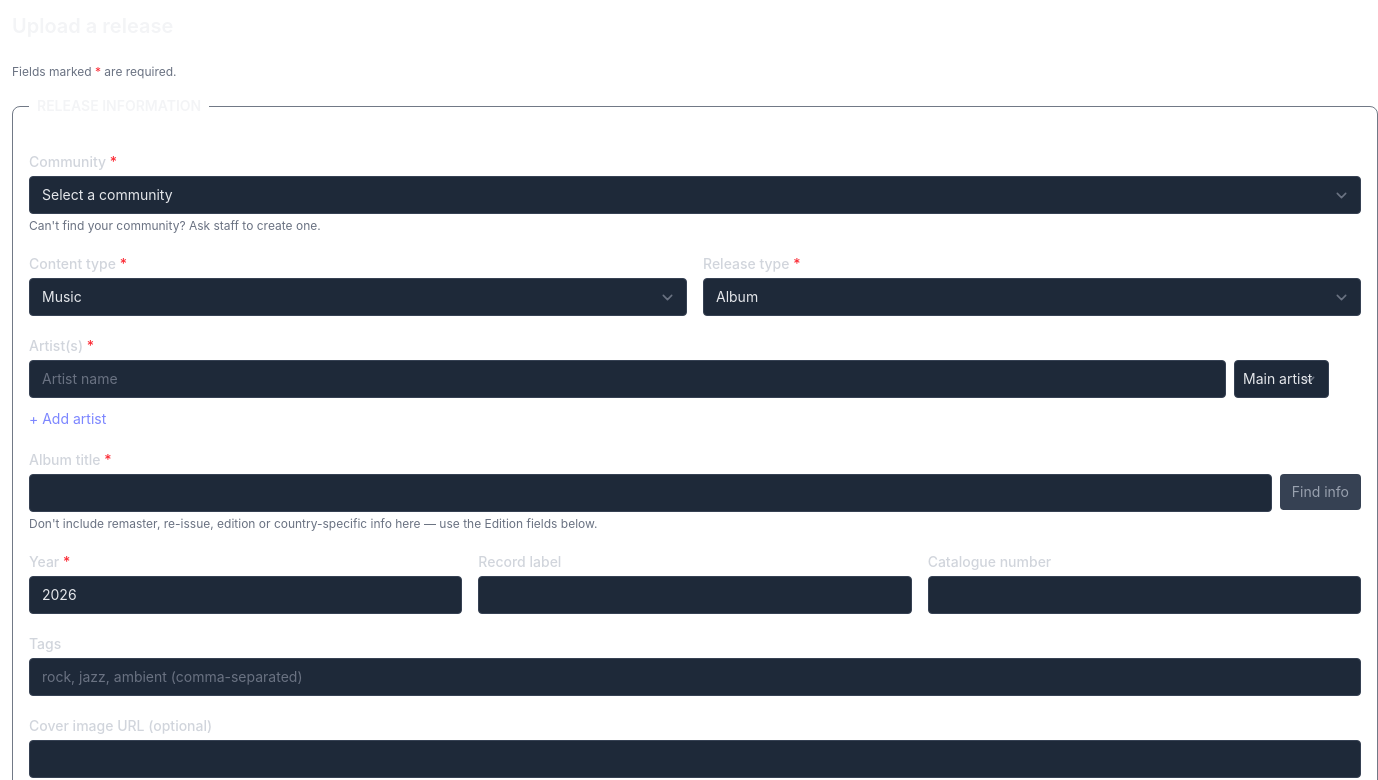
Test: ContributeForm › can add a second collaborator row
The width and height of the screenshot is (1378, 780).
Click the button "+ Add artist" at (68, 419), box x1=29 y1=409 x2=106 y2=429
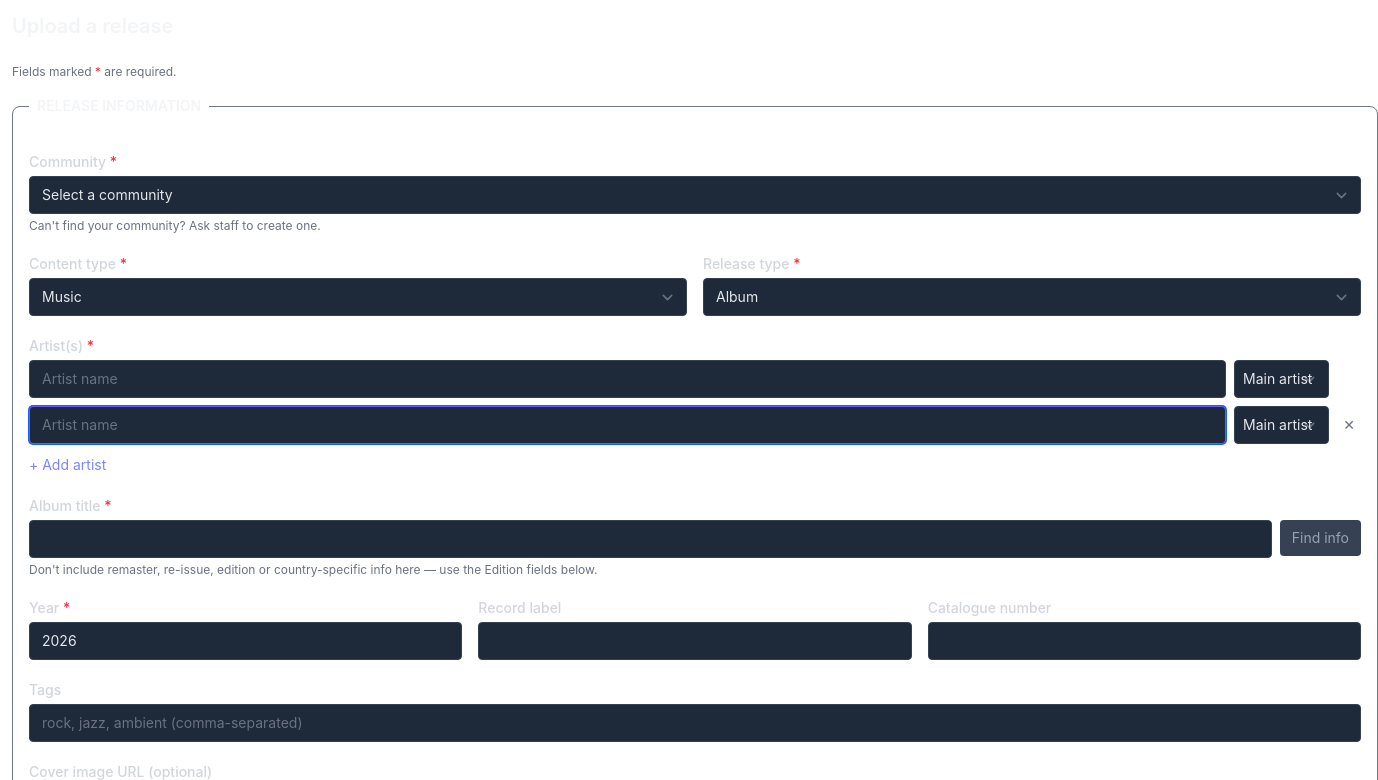
Expected: the number of fields with placeholder "Artist name" is 2, x1=29 y1=360 x2=1226 y2=398; x1=29 y1=406 x2=1226 y2=444
